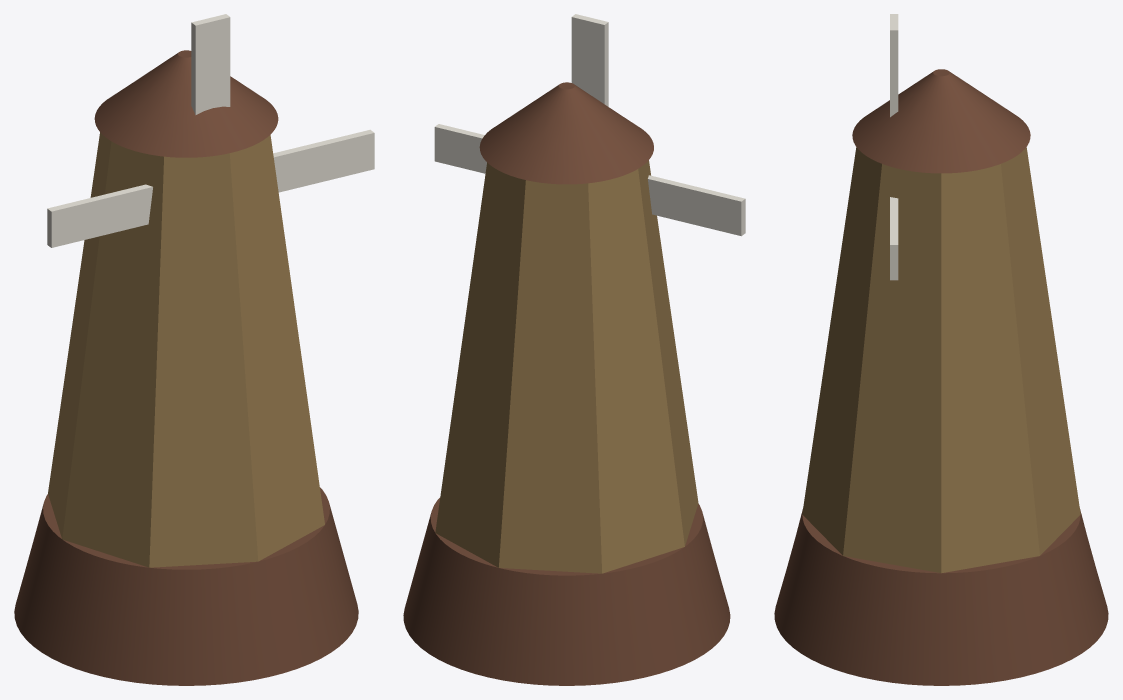
Rendered from d-nl-02-polder-windmill.glb.
3 views of the same model, side by side, from view 1: azimuth 30°, elevation 25°; view 2: azimuth 150°, elevation 25°; view 3: azimuth 270°, elevation 25° (orthographic). The views are drawn at different scales.
Visible parts, largest first — view 1: part1, part0, part2, part4, part3, part6, part5; view 2: part1, part0, part2, part4, part3, part6, part5; view 3: part1, part0, part2, part3, part4.
Part boxes in pixels (box(x1,y1,x2,y2)): part1: box(48, 132, 324, 567); part0: box(14, 487, 358, 685); part2: box(94, 50, 278, 157); part4: box(47, 129, 374, 247); part3: box(191, 14, 230, 114); part6: box(47, 130, 373, 246); part5: box(191, 14, 229, 113); part1: box(435, 160, 698, 573); part0: box(403, 497, 730, 685); part2: box(479, 82, 653, 184); part4: box(434, 124, 745, 236); part3: box(571, 14, 608, 106); part6: box(435, 124, 745, 235); part5: box(572, 14, 608, 106); part1: box(802, 147, 1080, 573); part0: box(774, 509, 1108, 685); part2: box(852, 69, 1030, 173); part3: box(890, 14, 898, 117); part4: box(890, 197, 898, 280).
Size of the model in its own units: 13000 by 23500 by 11996.
